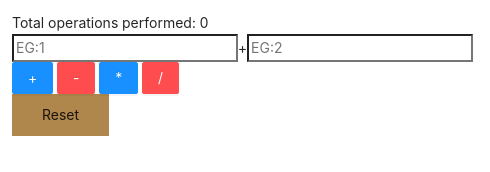
* operation works
The image size is (490, 172).
Type "10" into the number field with test id "app-input1".
click(125, 48); type("10")  # box [12,34,238,62]
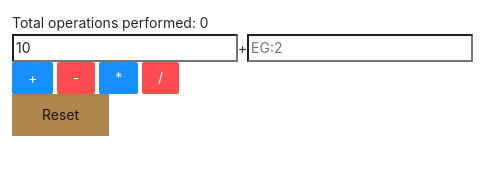
Type "5" into the number field with test id "app-input2".
click(360, 48); type("5")  # box [247,34,473,62]
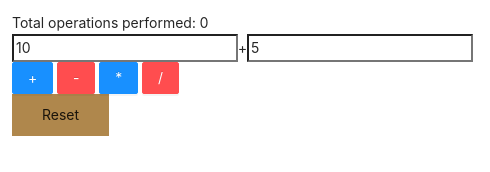
Click the button with test id "multiplyButton".
click(119, 78)  # box [99,62,138,94]
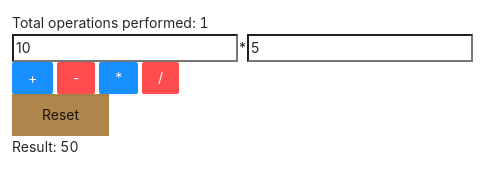
Expected: the text with test id "result" reads "Result: 50", [12,138,78,155]
Expected: the label with test id "selected-operator" reads "*", [238,39,247,56]
